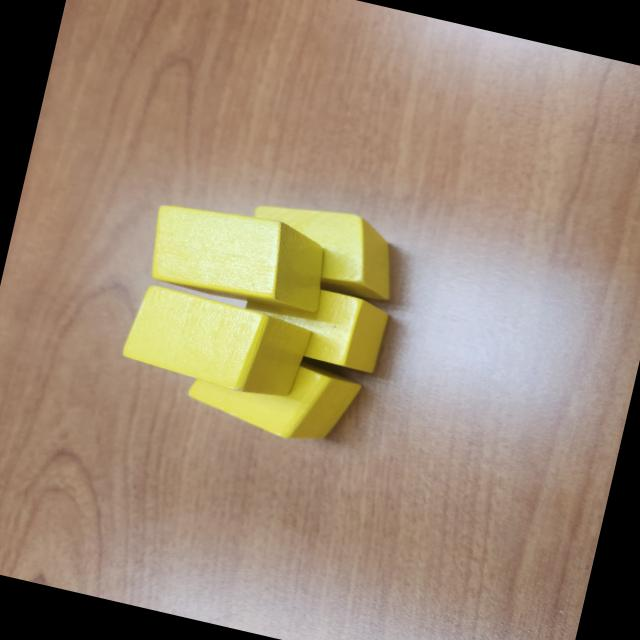yellow: (179, 322, 372, 456), (114, 279, 316, 405), (140, 192, 338, 318), (238, 192, 408, 306), (235, 272, 393, 374)
